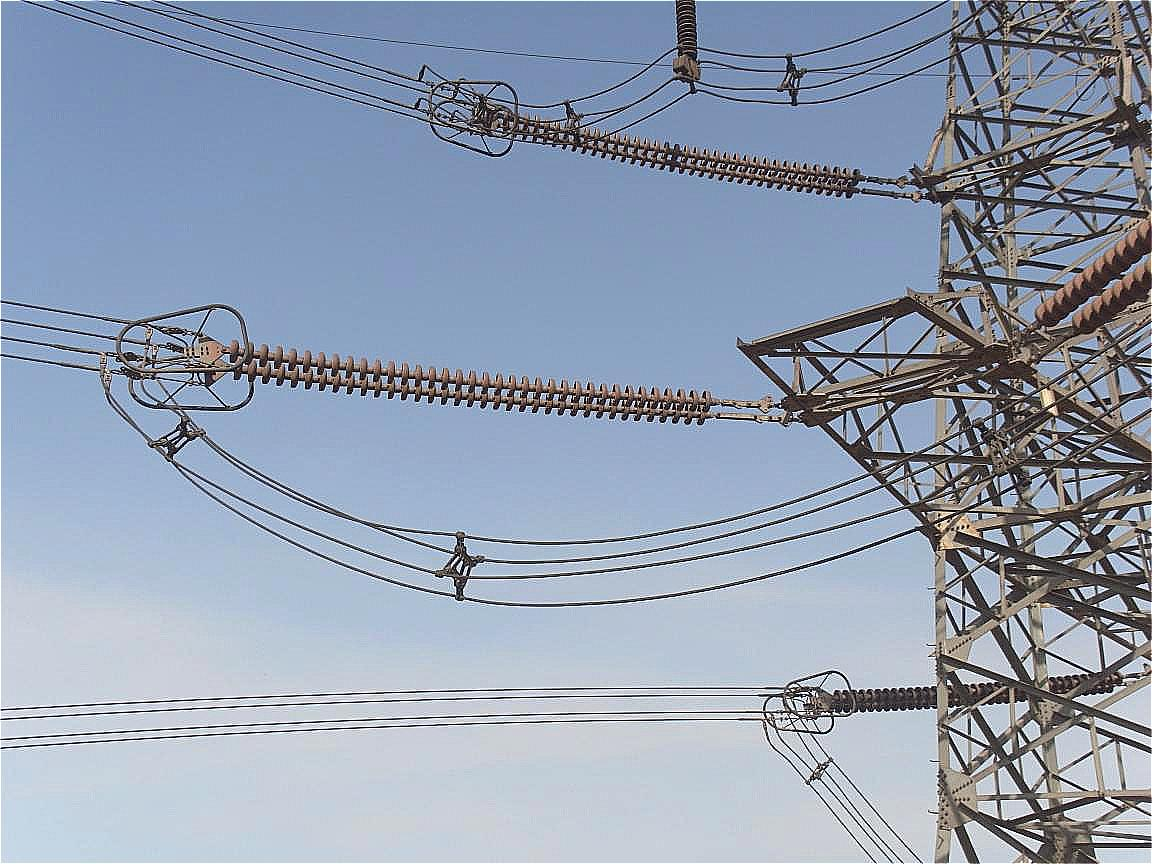insultor1: (219, 321, 729, 436), (476, 99, 880, 211), (828, 662, 1141, 721)
